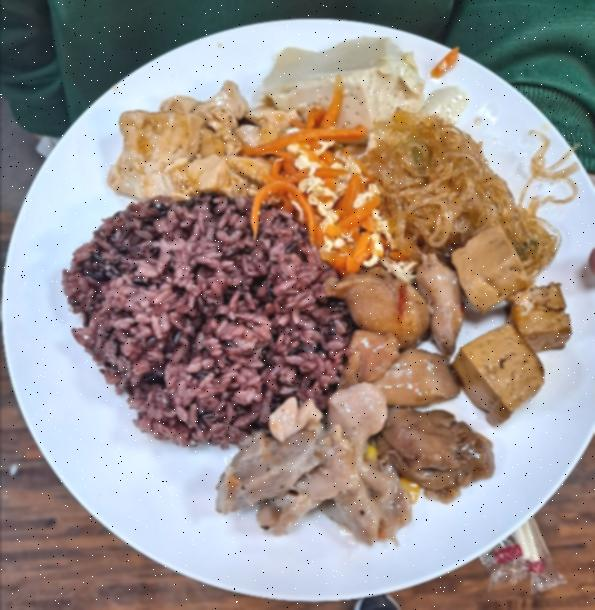big fried chicken leg: (10, 14, 594, 606)
braised fish: (68, 204, 340, 430)
braised fish fillet: (212, 395, 421, 554), (372, 118, 558, 260), (450, 230, 570, 416), (113, 96, 291, 205), (264, 117, 396, 263), (262, 26, 416, 132)
braised pork: (344, 266, 468, 482)
